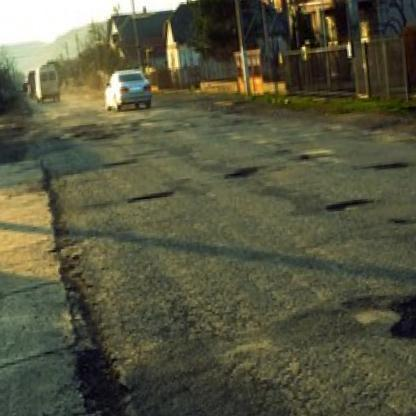pothole: (383, 275, 416, 343), (368, 157, 412, 175), (328, 196, 373, 212), (224, 163, 264, 179), (128, 189, 173, 203), (389, 211, 416, 228)
